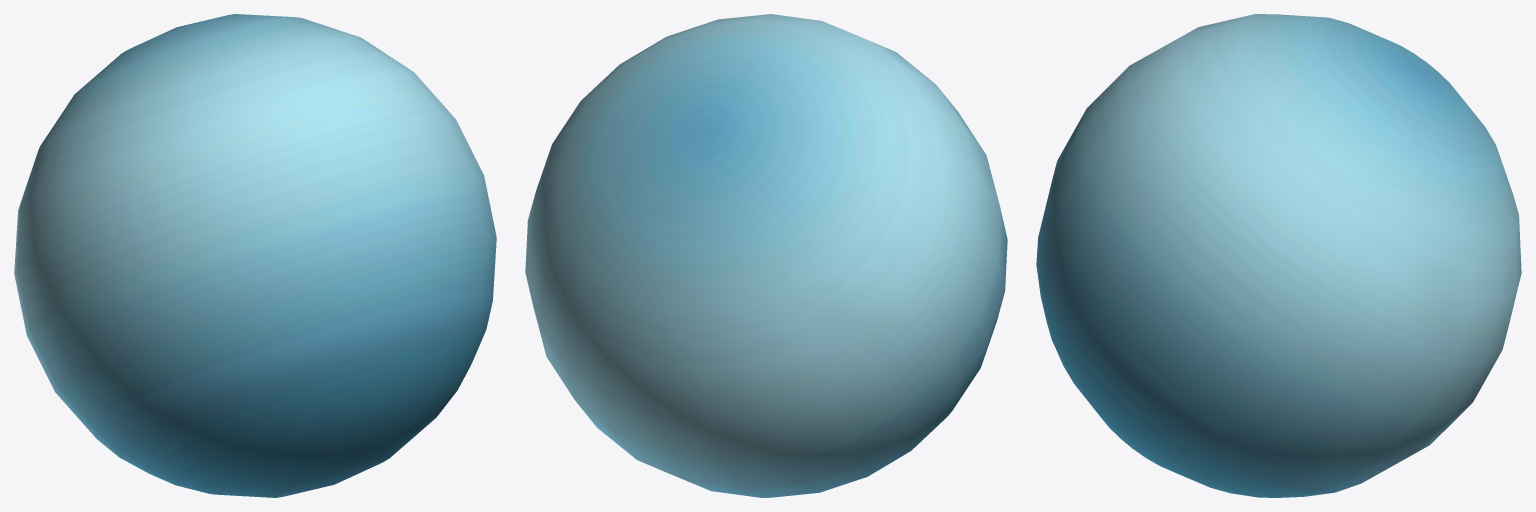
File: throw0002.fbx
The picture shows the model from 3 angles, left to right: view 1: azimuth 30°, elevation 25°; view 2: azimuth 150°, elevation 25°; view 3: azimuth 270°, elevation 25°; orthographic projection.
Parts seen in each view (by area): view 1: throw0002_m; view 2: throw0002_m; view 3: throw0002_m.
Boxes of the visible parts, x1,y1,x2,y2 form: throw0002_m: (14,14,496,497); throw0002_m: (525,14,1007,497); throw0002_m: (1036,14,1521,497).
Size of the model in its own units: 0.194 by 0.1939 by 0.1941.
